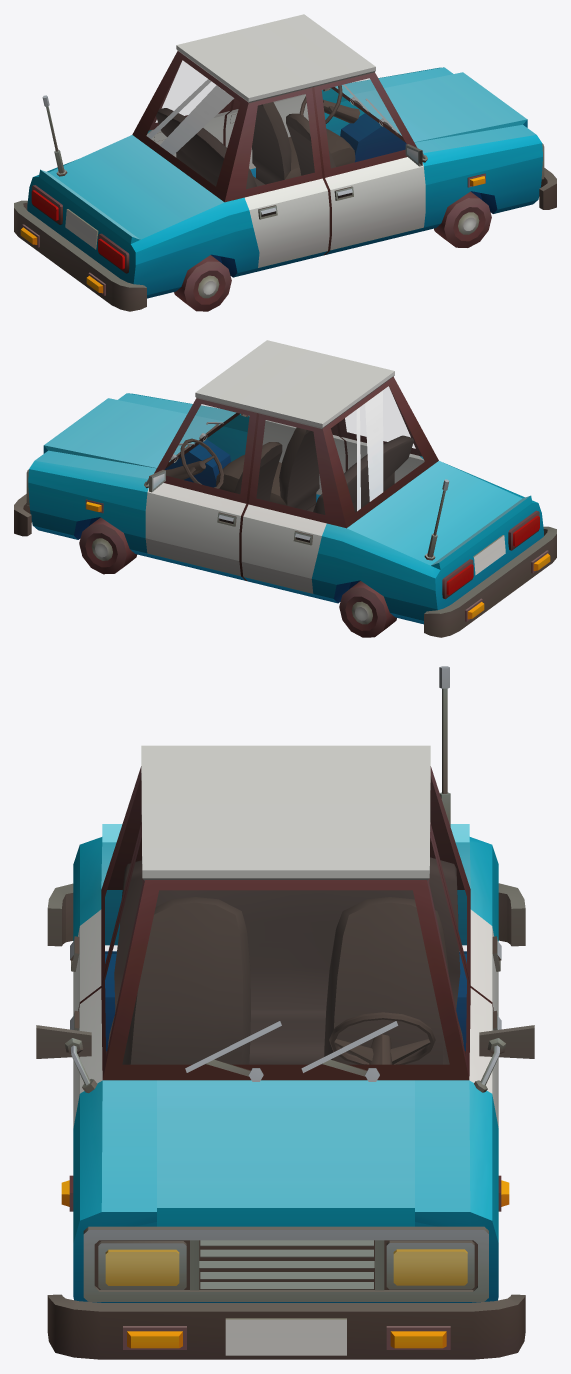
File: Car_01.FBX
3 renders of one model, top to bottom at view 1: azimuth 30°, elevation 25°; view 2: azimuth 150°, elevation 25°; view 3: azimuth 270°, elevation 25°, orthographic. The views are drawn at different scales.
Parts seen in each view (by area): view 1: Car_01; view 2: Car_01; view 3: Car_01.
Boxes of the visible parts, left/top/right/bottom form: Car_01: left=14, top=14, right=556, bottom=311; Car_01: left=14, top=340, right=556, bottom=637; Car_01: left=36, top=666, right=534, bottom=1359.
Size of the model in its own units: 403 by 162 by 193.
Materials: 2 (1 with a texture image).
